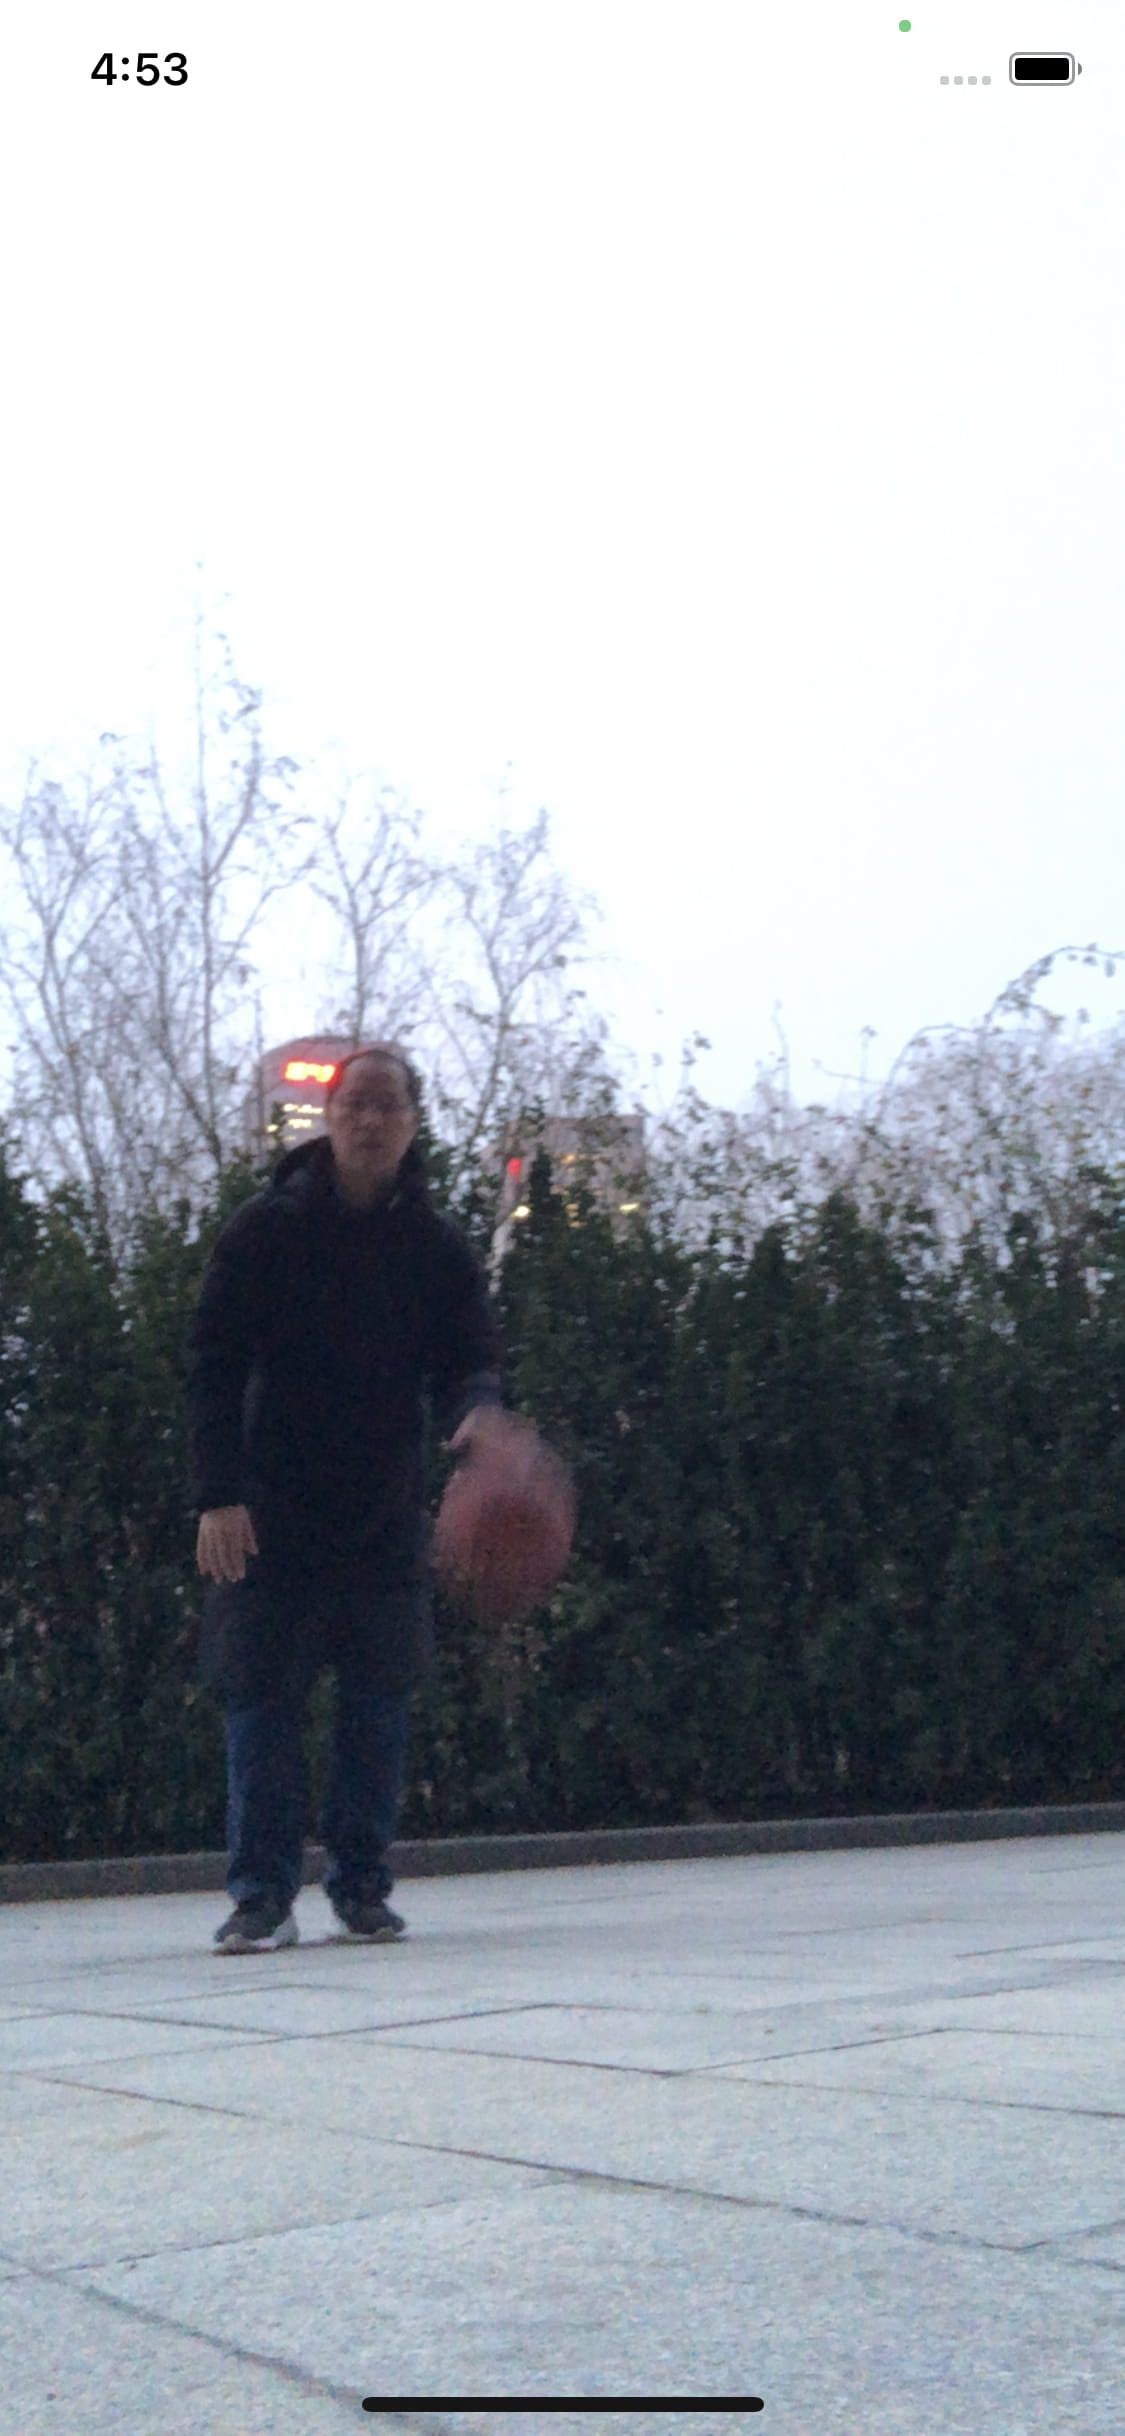ball: (438, 1446, 580, 1603)
